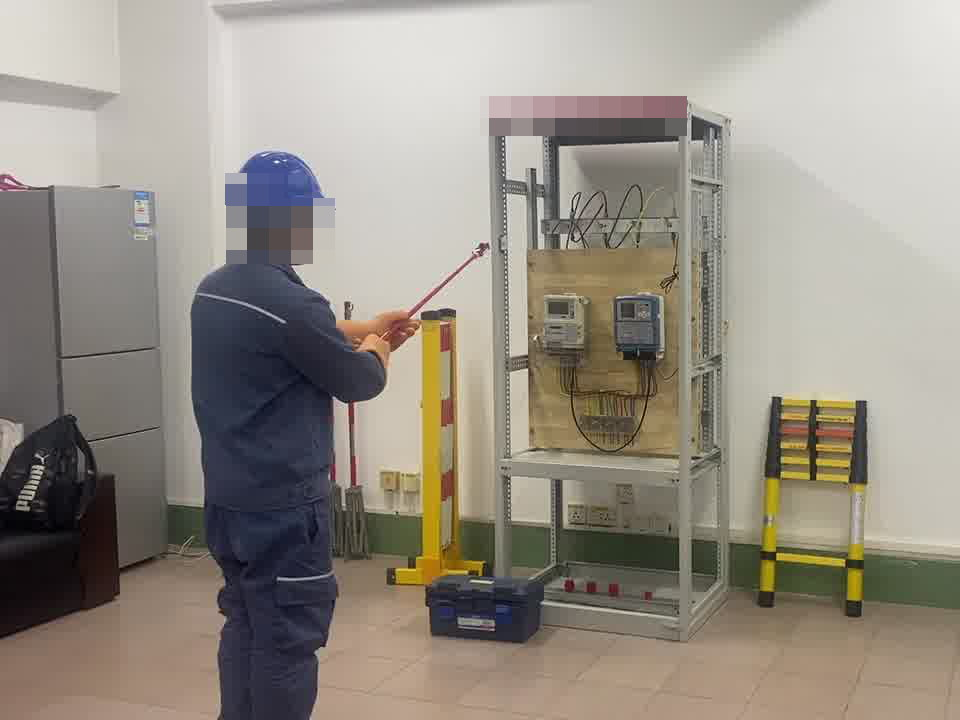downsuit: (201, 509, 341, 720)
halt: (227, 148, 335, 268)
inear: (265, 207, 316, 260)
longglove: (335, 306, 423, 361)
person: (185, 146, 398, 720)
testrod: (376, 239, 492, 346)
upsuit: (187, 249, 385, 500)
wronghold: (376, 300, 428, 341)
